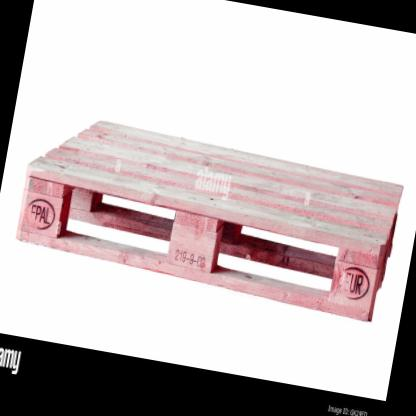BoxFace: (15, 116, 405, 326)
